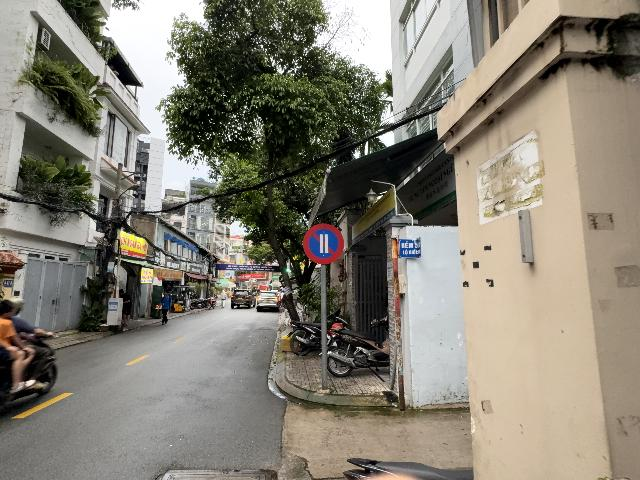cam-do-xe-ngay-chan: (303, 223, 345, 264)
